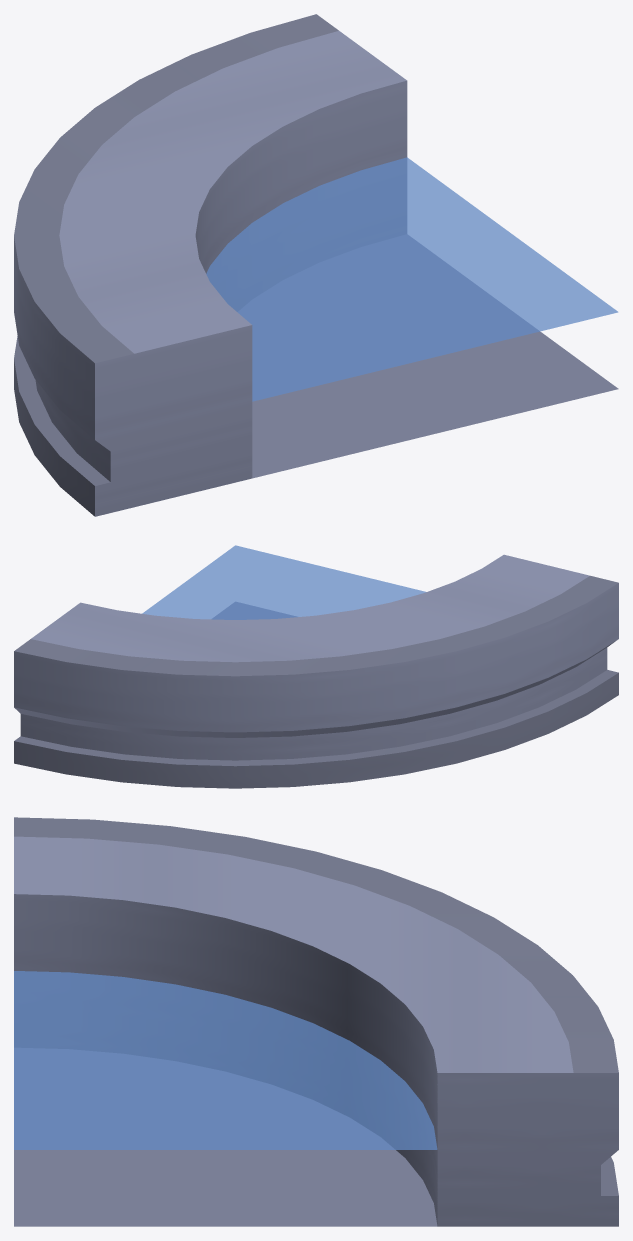
Rendered from fountainCurved.fbx.
3 views of the same model, one above another, from view 1: azimuth 30°, elevation 25°; view 2: azimuth 150°, elevation 25°; view 3: azimuth 270°, elevation 25° (orthographic). The views are drawn at different scales.
Parts seen in each view (by area): view 1: fountainCurved; view 2: fountainCurved; view 3: fountainCurved.
Boxes of the visible parts, x1,y1,x2,y2 form: fountainCurved: [14, 14, 618, 516]; fountainCurved: [14, 545, 618, 788]; fountainCurved: [14, 817, 618, 1226].
Bounding box in the file's own units: 1 × 1 × 0.28.
